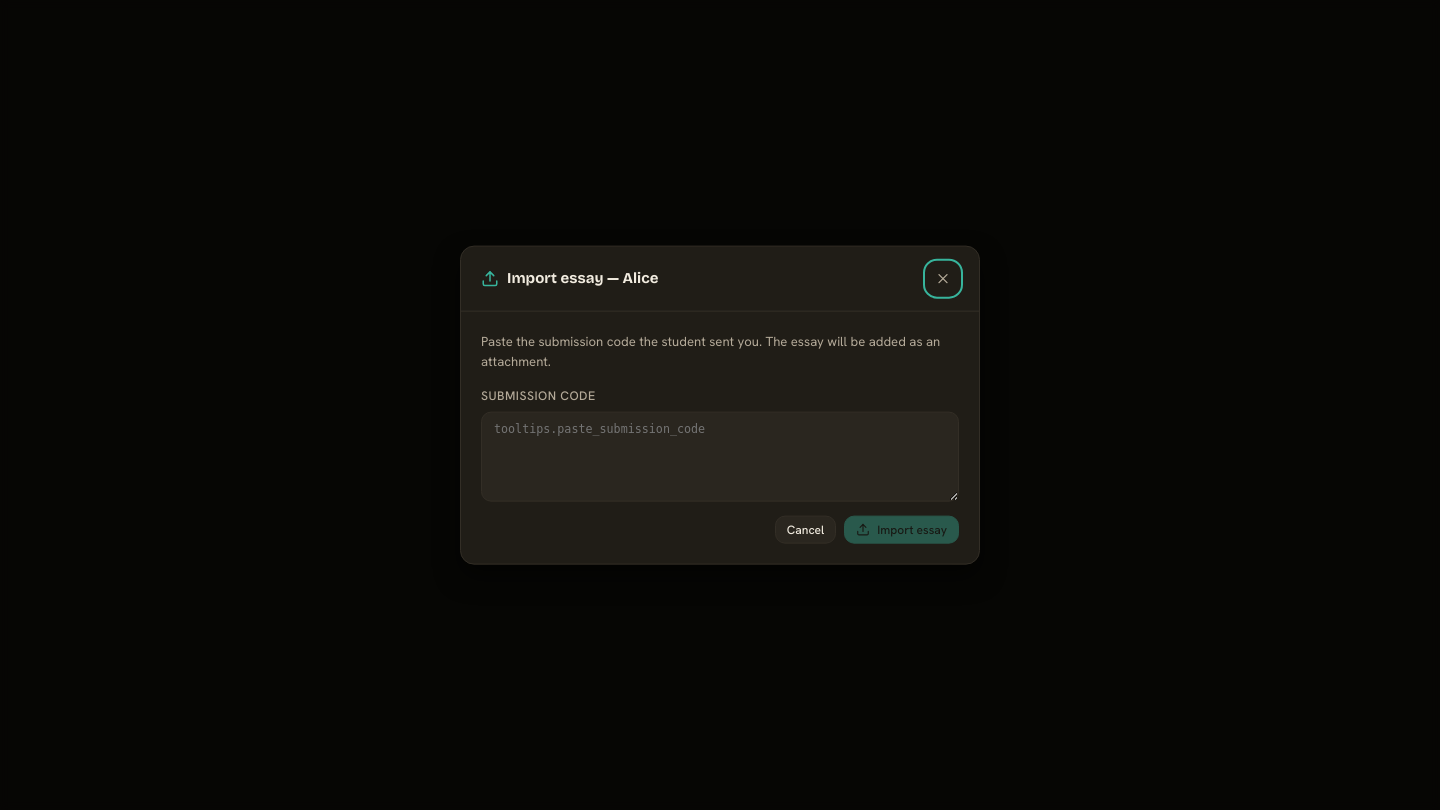
Test: EssayImportModal › shows error when decode returns null
Type "bad-code" into the text box with placeholder "tooltips.paste_submission_code" at (720, 456), box [481,411,959,501]
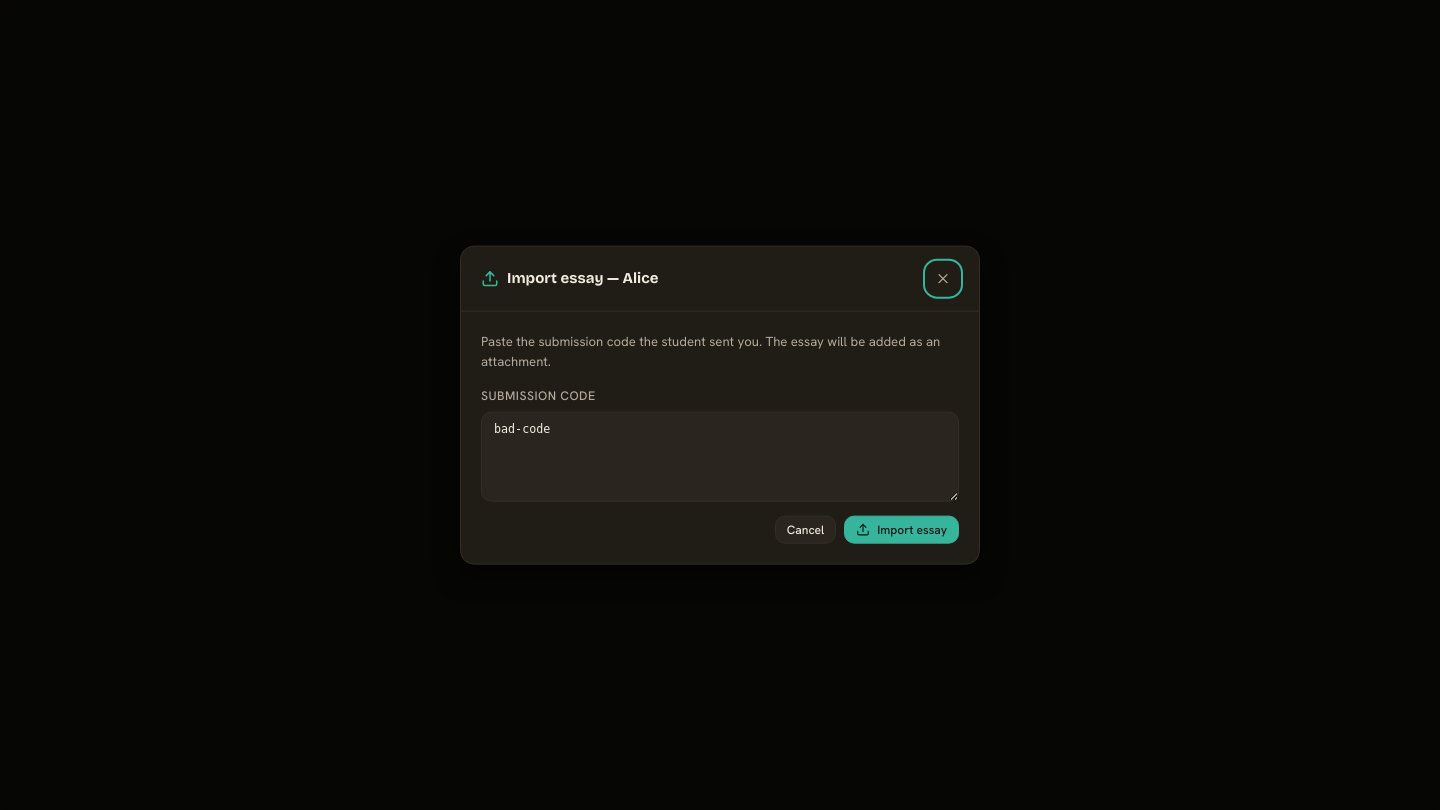
Click the button "Import essay" at (902, 529), box [844,515,959,543]
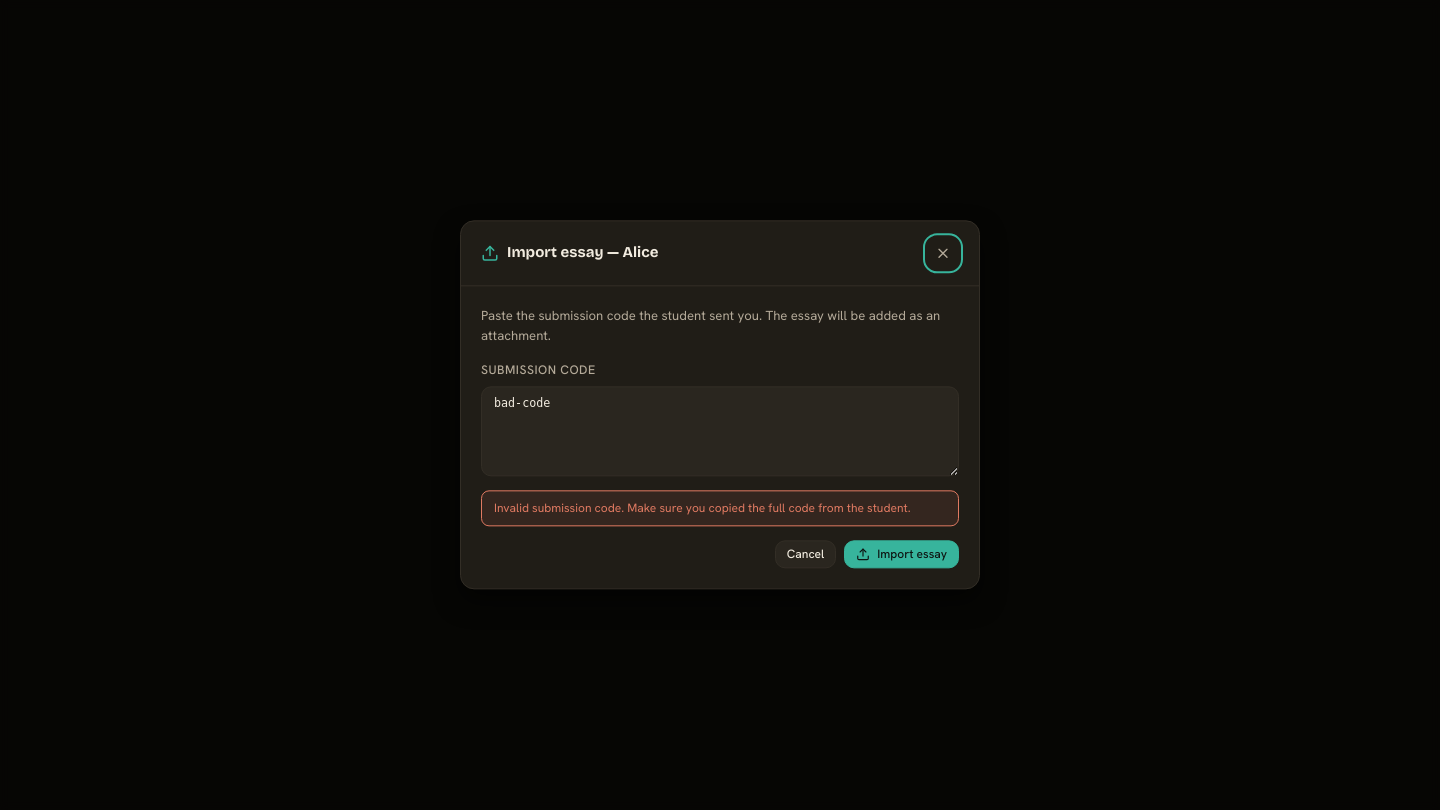
Result: the text "Invalid submission code" is shown at [494,500,911,516]
